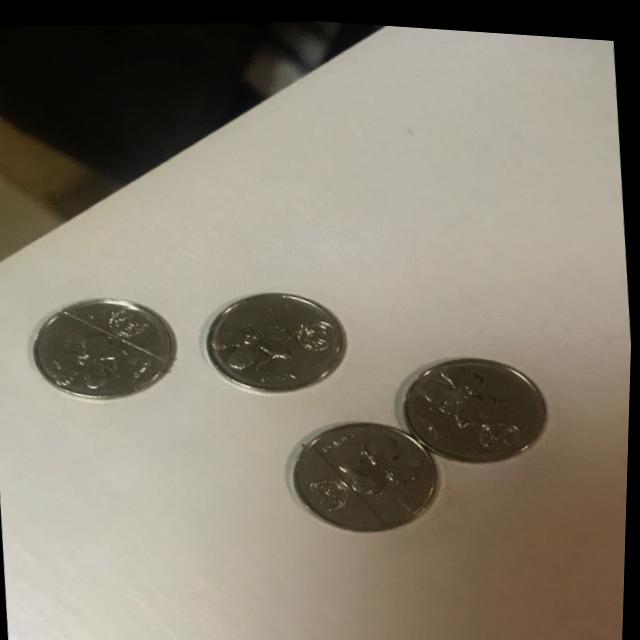25Cent_New_Back: (309, 419, 430, 521), (222, 291, 330, 390), (423, 361, 531, 452), (48, 303, 149, 390)
